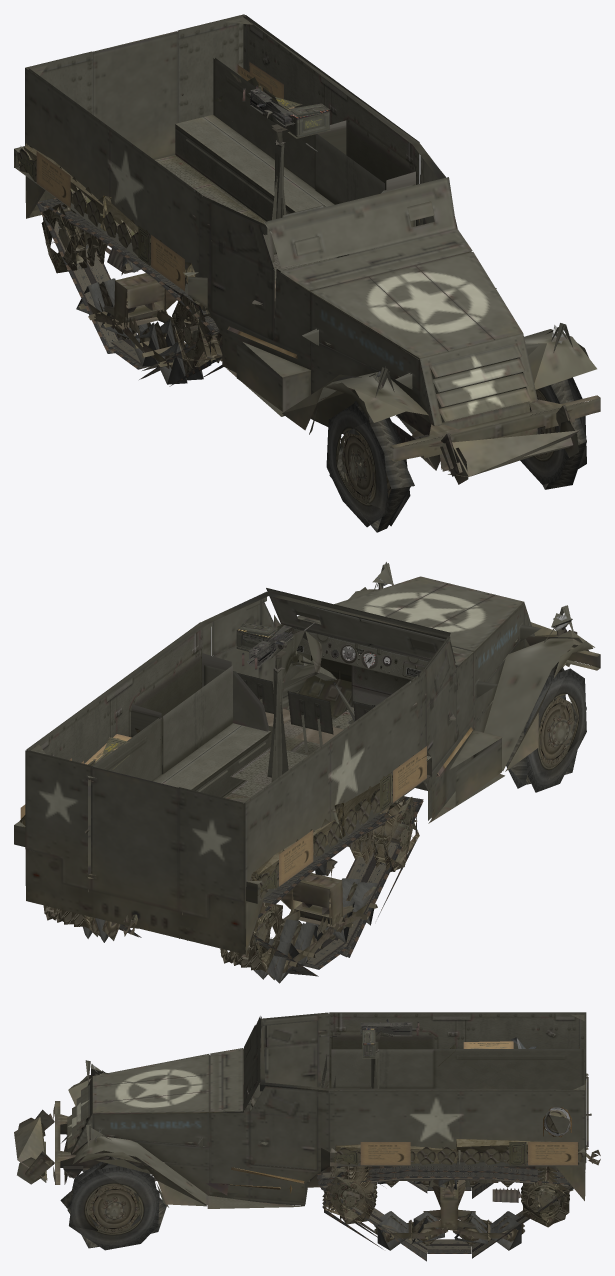
File: m3_halftrack_42manako_m_lod2.glb
3 views of the same model, one above another, from view 1: azimuth 30°, elevation 25°; view 2: azimuth 150°, elevation 25°; view 3: azimuth 270°, elevation 25° (orthographic). The views are drawn at different scales.
Visible parts, largest first — view 1: hull.001, open-interior, hatch3.001, wheel.001, hatch2.001, hull2, track1, wheel2, wheel13, wheel3, weapon.001, d-optionb (+7 smaller); view 2: hull.001, open-interior, hatch3.001, wheel.001, track1, hull2, hatch2.001, wheel3, hatch.001, wheel13, weapon.001, d-optionb (+10 smaller); view 3: hull.001, open-interior, wheel2, track2, hatch.001, hatch2.001, wheel4, wheel14, a-optionb, b-optionc, hull2, weapon.001 (+10 smaller).
Boxes of the visible parts, x1=… form: hull.001: x1=14, y1=14, x2=600, y2=484; open-interior: x1=26, y1=15, x2=526, y2=433; hatch3.001: x1=92, y1=31, x2=178, y2=159; wheel.001: x1=326, y1=401, x2=414, y2=532; hatch2.001: x1=211, y1=202, x2=274, y2=340; hull2: x1=87, y1=237, x2=540, y2=470; track1: x1=37, y1=198, x2=223, y2=386; wheel2: x1=519, y1=377, x2=586, y2=489; wheel13: x1=41, y1=204, x2=107, y2=273; wheel3: x1=172, y1=294, x2=222, y2=369; weapon.001: x1=242, y1=85, x2=330, y2=151; d-optionb: x1=138, y1=225, x2=184, y2=291; hull.001: x1=14, y1=562, x2=600, y2=969; open-interior: x1=26, y1=602, x2=521, y2=946; hatch3.001: x1=88, y1=767, x2=178, y2=910; wheel.001: x1=506, y1=662, x2=586, y2=792; track1: x1=252, y1=796, x2=423, y2=976; hull2: x1=326, y1=624, x2=541, y2=877; hatch2.001: x1=426, y1=641, x2=457, y2=770; wheel3: x1=349, y1=797, x2=419, y2=872; hatch.001: x1=212, y1=599, x2=275, y2=693; wheel13: x1=220, y1=902, x2=284, y2=971; weapon.001: x1=236, y1=622, x2=315, y2=669; d-optionb: x1=380, y1=746, x2=426, y2=812; hull.001: x1=14, y1=1012, x2=600, y2=1240; open-interior: x1=93, y1=1013, x2=586, y2=1204; wheel2: x1=60, y1=1156, x2=166, y2=1250; track2: x1=317, y1=1166, x2=573, y2=1261; hatch.001: x1=249, y1=1086, x2=317, y2=1169; hatch2.001: x1=250, y1=1021, x2=317, y2=1099; wheel4: x1=322, y1=1166, x2=377, y2=1224; wheel14: x1=521, y1=1166, x2=569, y2=1227; a-optionb: x1=509, y1=1142, x2=577, y2=1165; b-optionc: x1=332, y1=1142, x2=410, y2=1165; hull2: x1=77, y1=1117, x2=573, y2=1202; weapon.001: x1=321, y1=1019, x2=419, y2=1058.
Bounding box in the file's own units: 2.19 × 2.34 × 6.19.
Materials: 9 (9 with a texture image).
